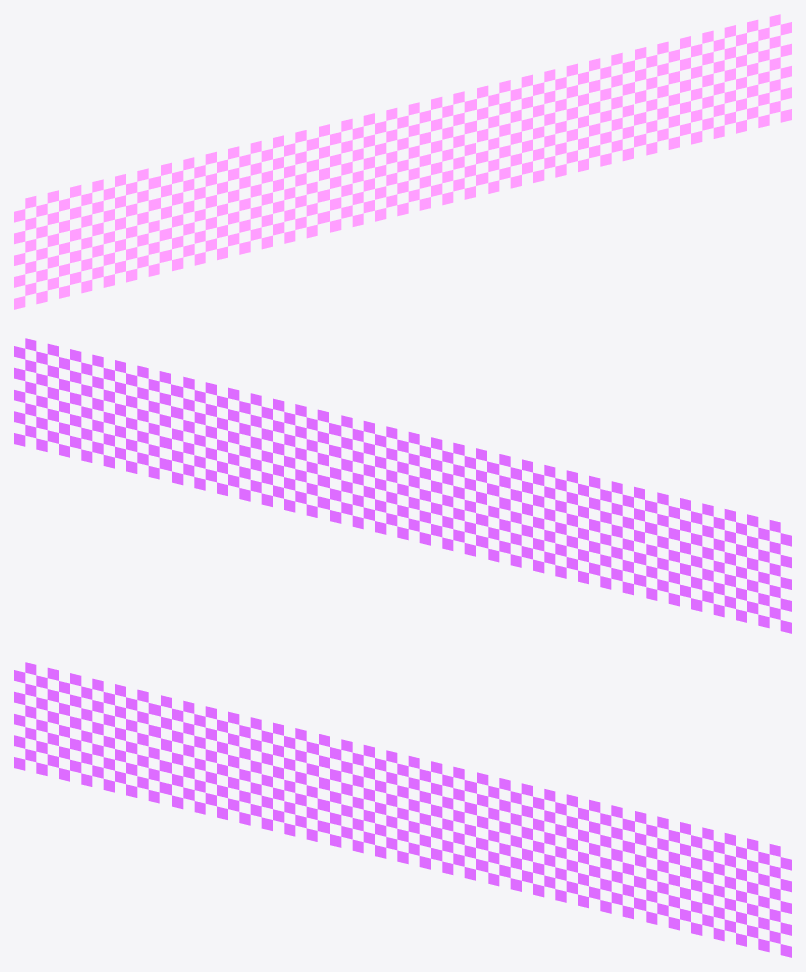
The model's file is stvorcefinishline.fbx.
The picture shows the model from 3 angles, top to bottom: view 1: azimuth 30°, elevation 25°; view 2: azimuth 150°, elevation 25°; view 3: azimuth 330°, elevation 25°; orthographic projection.
Visible parts, largest first — view 1: Plane.009; view 2: Plane.009; view 3: Plane.009.
Boxes of the visible parts, x1,y1,x2,y2 form: Plane.009: (14, 14, 791, 309); Plane.009: (14, 338, 791, 633); Plane.009: (14, 662, 791, 957).
Bounding box in the file's own units: 3000 × 400 × 1.75e-05.
